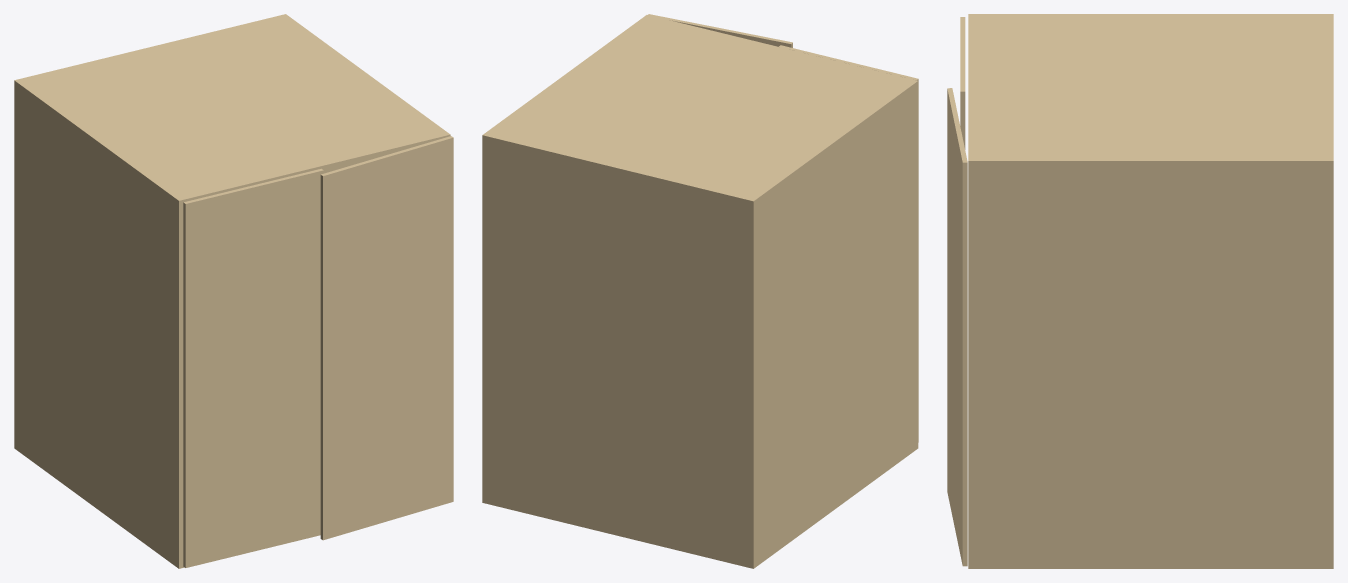
The picture shows the model from 3 angles, left to right: view 1: azimuth 30°, elevation 25°; view 2: azimuth 150°, elevation 25°; view 3: azimuth 270°, elevation 25°; orthographic projection. The views are drawn at different scales.
Parts seen in each view (by area): view 1: Box66787334, Box66787338, Box66787337; view 2: Box66787334, Box66787338, Box66787337; view 3: Box66787334, Box66787337, Box66787338.
Part boxes in pixels (bbox=[...]): Box66787334: bbox=[14, 14, 450, 568]; Box66787338: bbox=[183, 168, 323, 567]; Box66787337: bbox=[320, 136, 453, 540]; Box66787334: bbox=[482, 15, 918, 568]; Box66787338: bbox=[779, 45, 918, 442]; Box66787337: bbox=[648, 14, 792, 47]; Box66787334: bbox=[968, 14, 1333, 568]; Box66787337: bbox=[947, 88, 967, 566]; Box66787338: bbox=[960, 17, 965, 149].
Bounding box in the file's own units: 0.1612 × 0.2083 × 0.1788.
